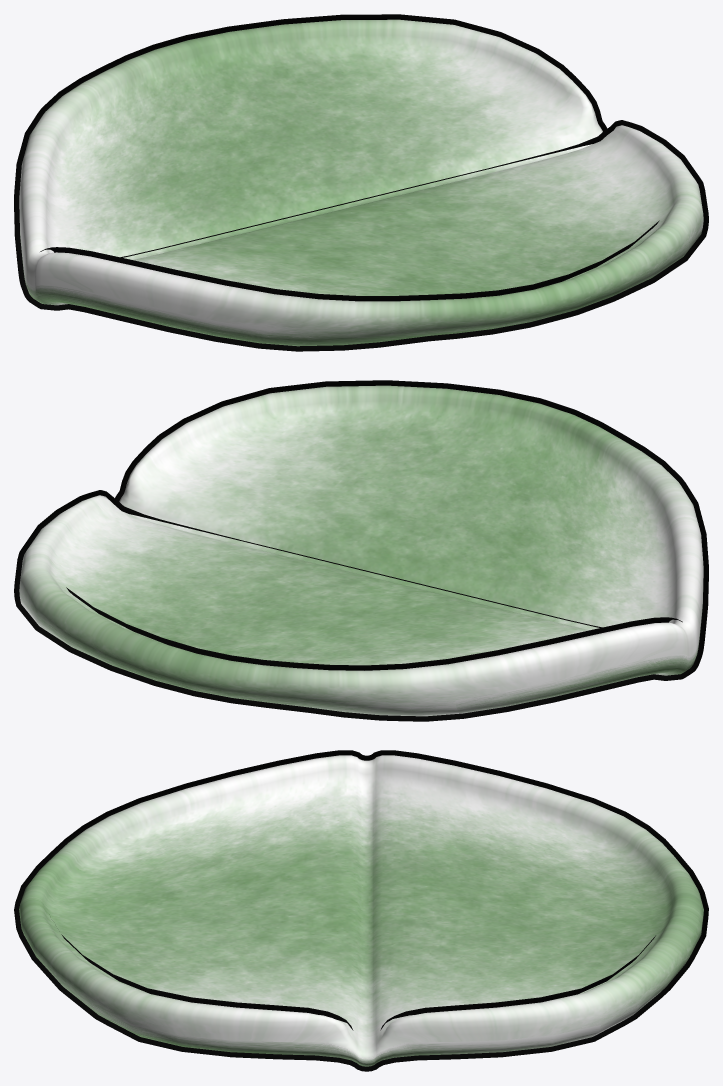
Rendered from WaterLilly.fbx.
3 renders of one model, top to bottom at view 1: azimuth 30°, elevation 25°; view 2: azimuth 150°, elevation 25°; view 3: azimuth 270°, elevation 25°, orthographic. The views are drawn at different scales.
Visible parts, largest first — view 1: Water_Lilly_Base, Water_Lilly_Outline; view 2: Water_Lilly_Base, Water_Lilly_Outline; view 3: Water_Lilly_Base, Water_Lilly_Outline.
Part boxes in pixels (box(x1,y1,x2,y2)): Water_Lilly_Base: box(19, 19, 703, 346); Water_Lilly_Outline: box(14, 14, 708, 351); Water_Lilly_Base: box(19, 385, 703, 716); Water_Lilly_Outline: box(14, 380, 708, 721); Water_Lilly_Base: box(19, 755, 703, 1066); Water_Lilly_Outline: box(14, 750, 708, 1071).
Bounding box in the file's own units: 127 × 16.53 × 135.
